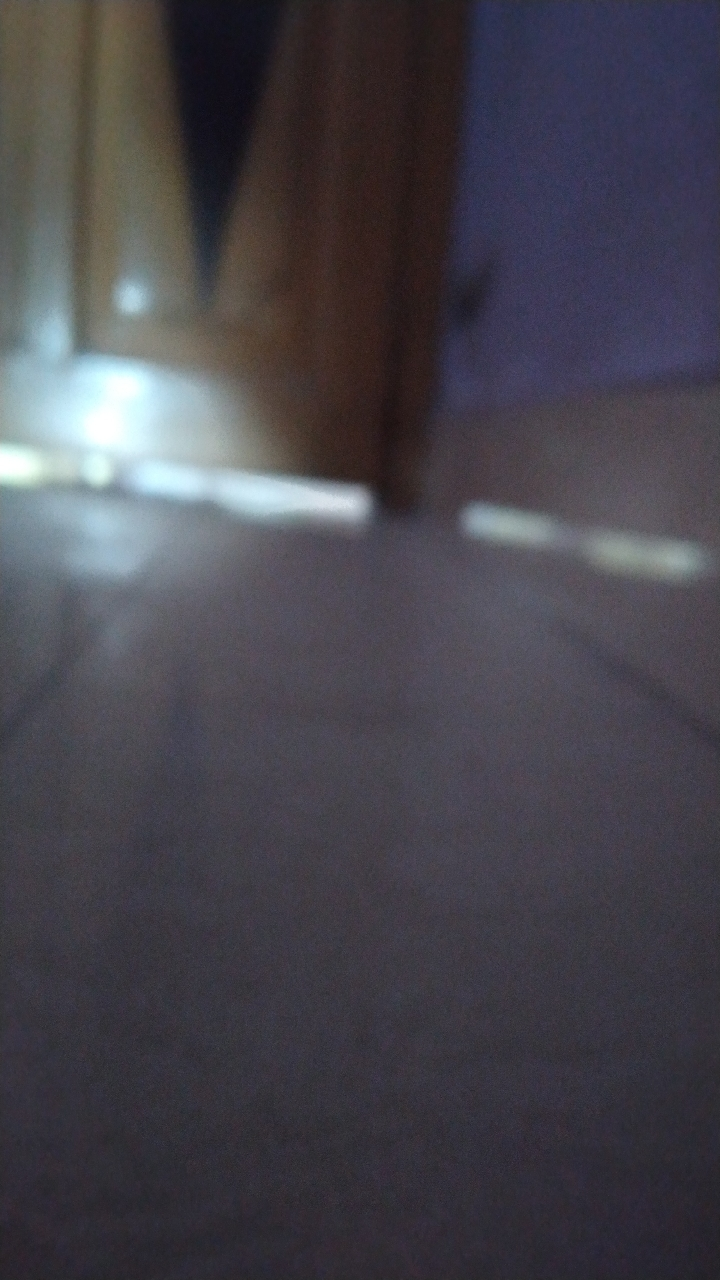Doors: (5, 72, 450, 531)
